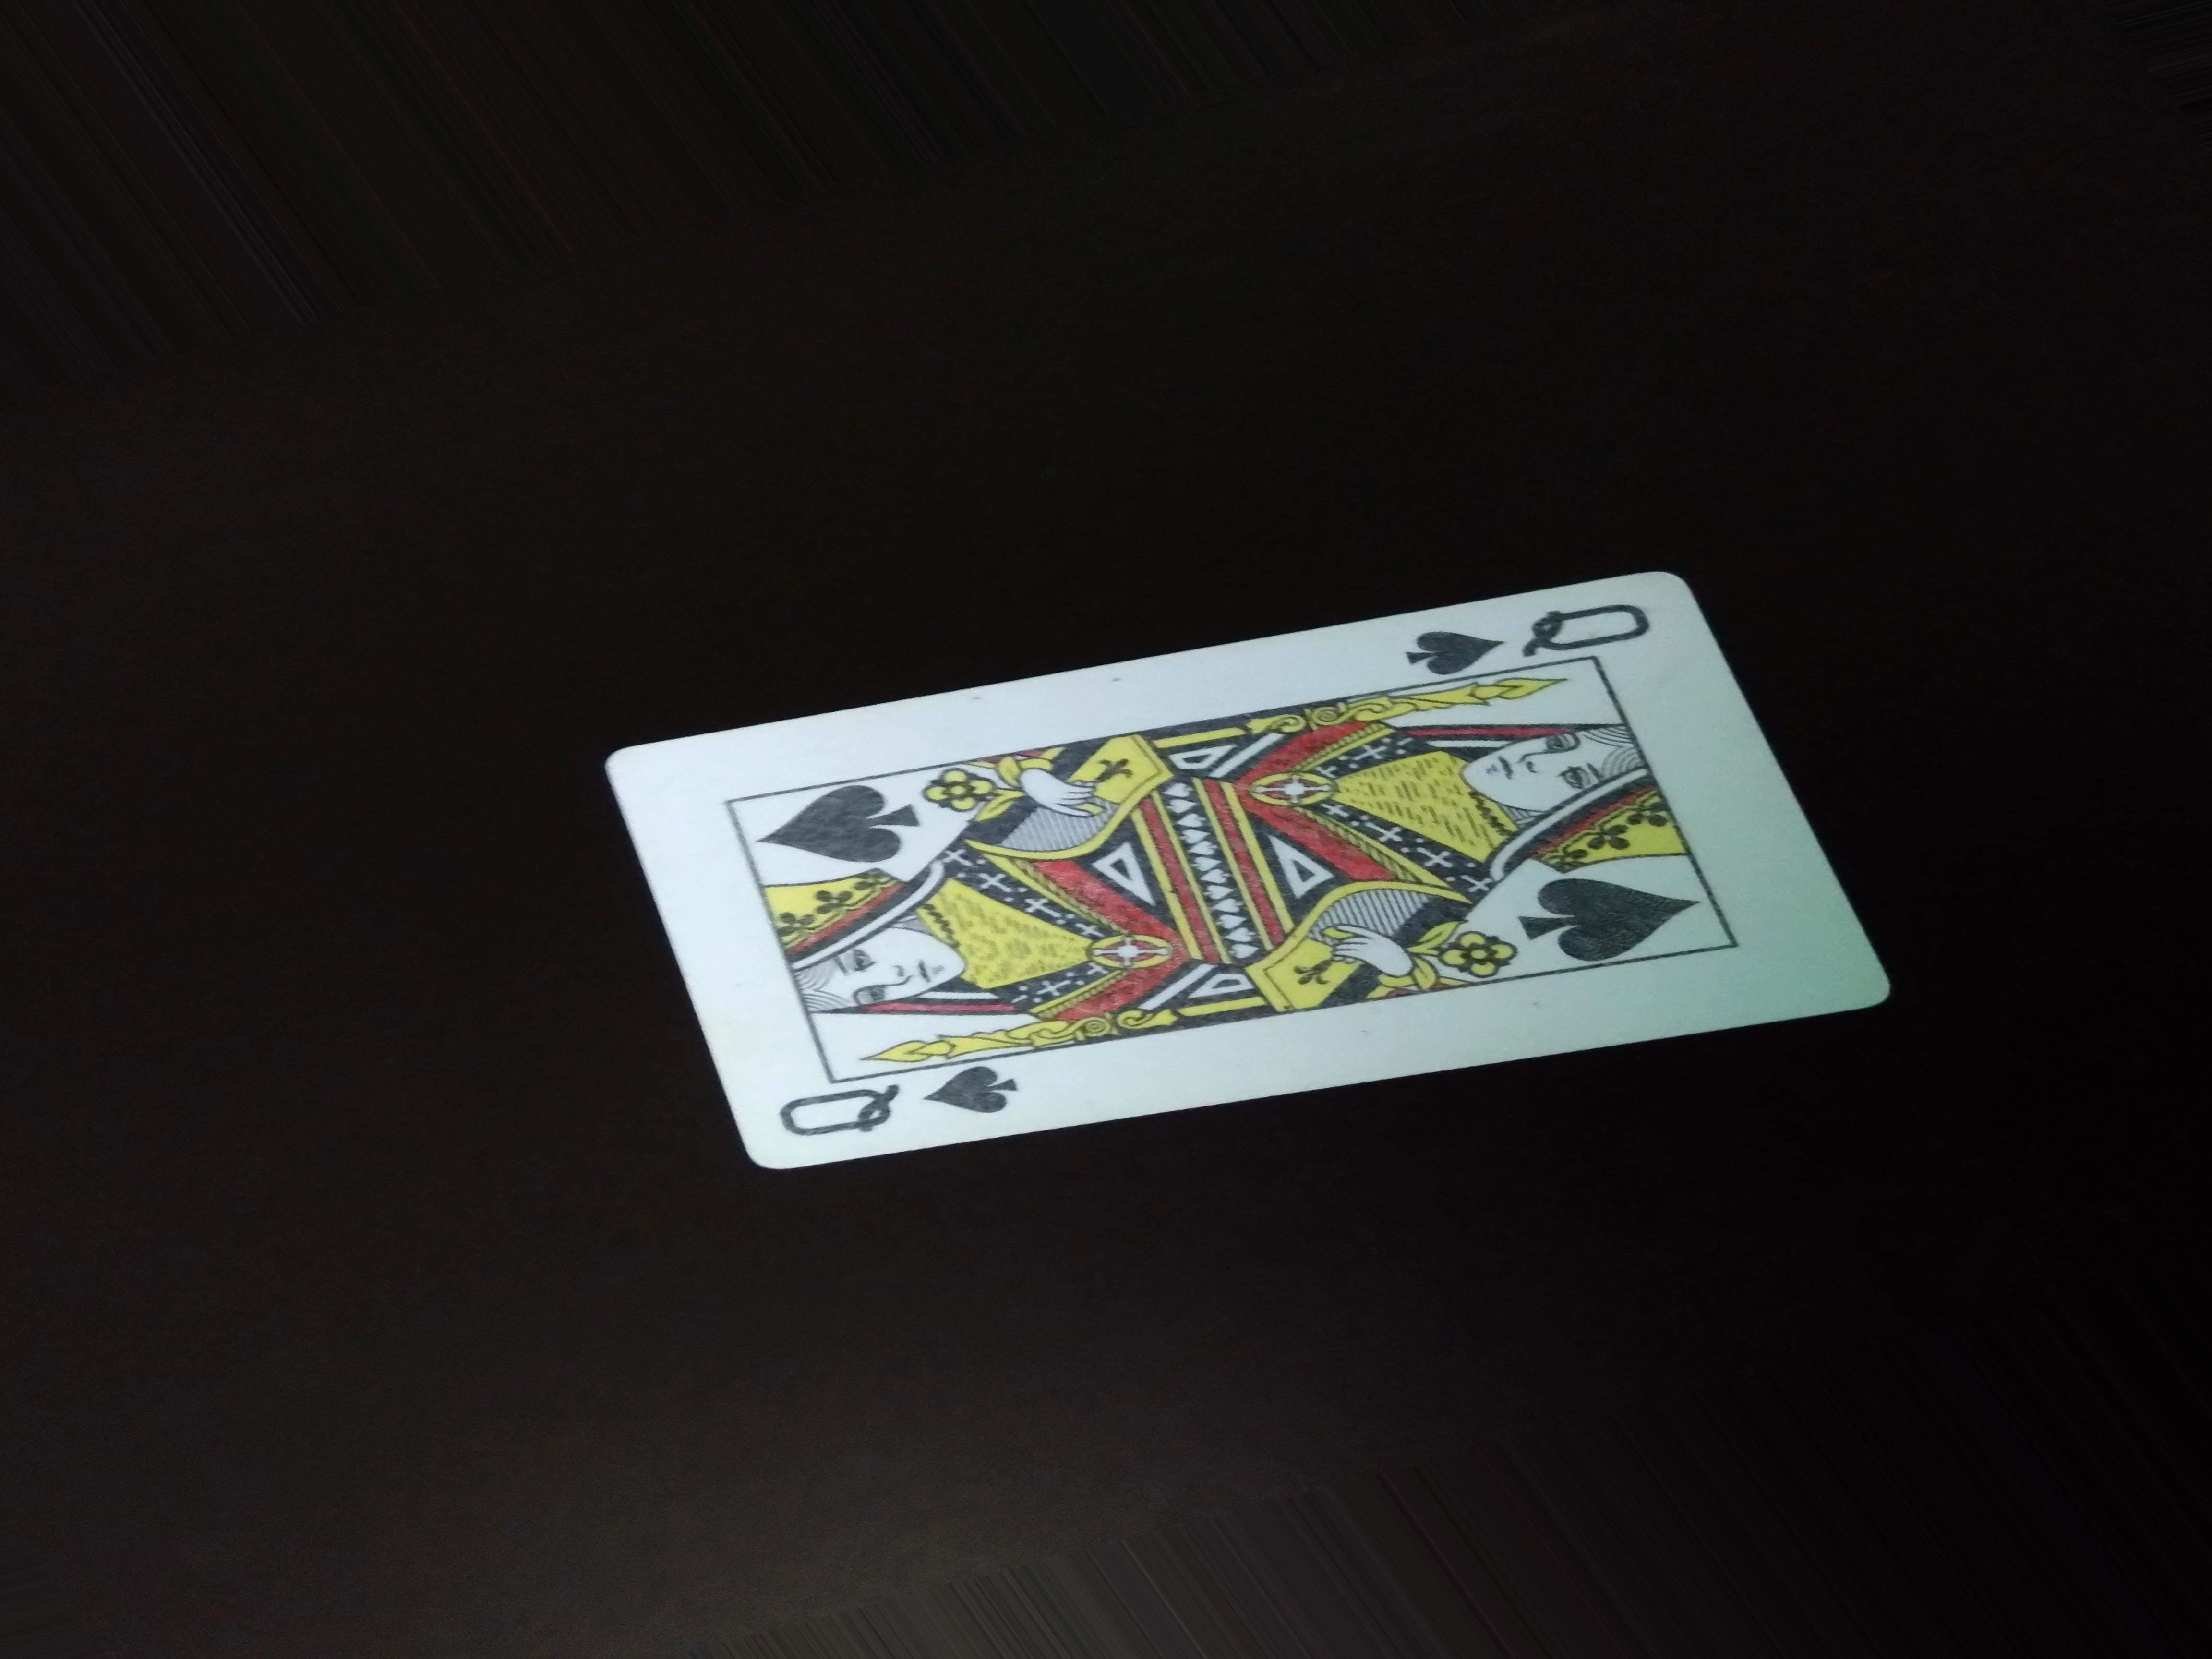QS: (1385, 603, 1684, 673)
